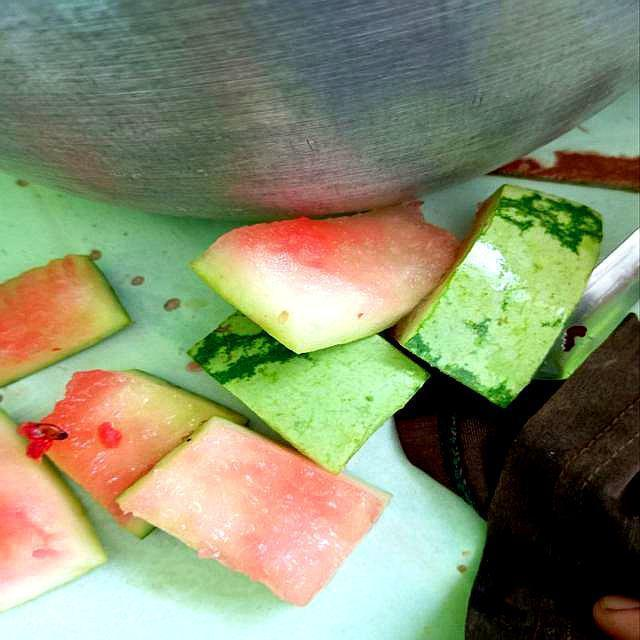Biodegradable: (199, 191, 597, 453), (1, 381, 363, 611), (1, 250, 133, 391)
